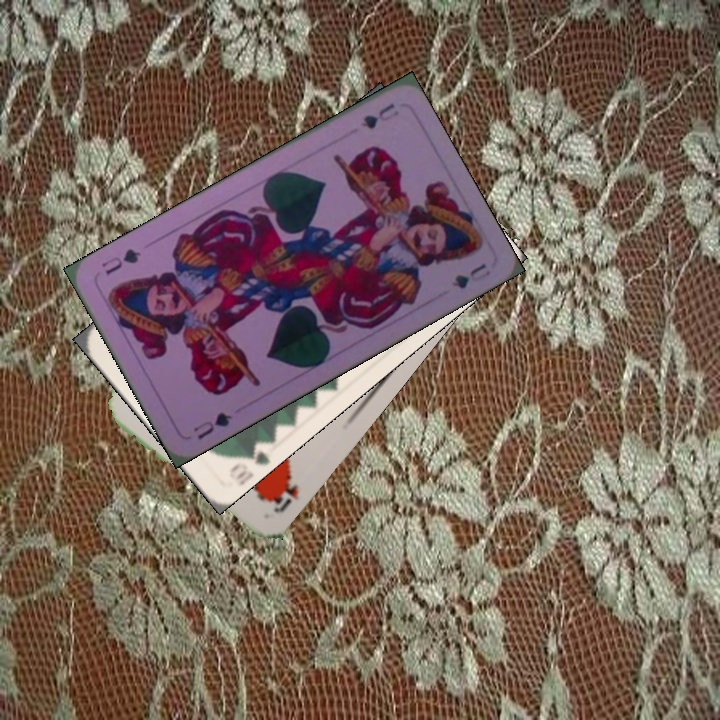G10: (224, 437, 271, 483)
GU: (189, 408, 235, 442), (356, 99, 402, 132)
HO: (266, 472, 302, 516)
